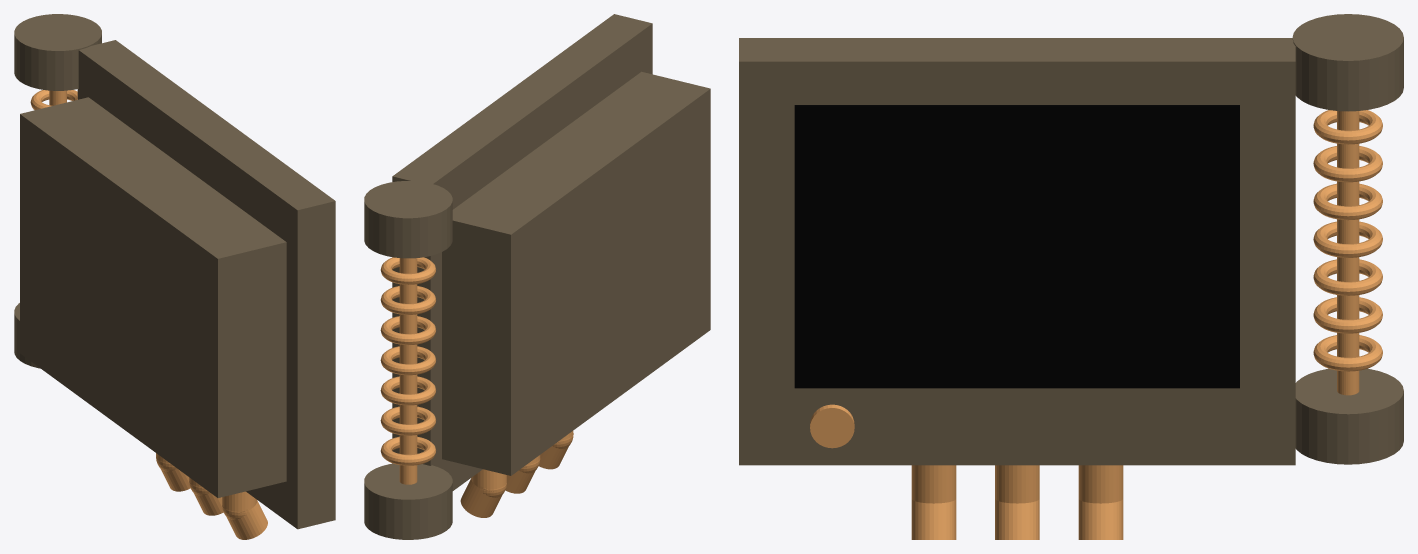
File: console(off).fbx
3 views of the same model, side by side, from view 1: azimuth 30°, elevation 25°; view 2: azimuth 150°, elevation 25°; view 3: azimuth 270°, elevation 25° (orthographic). The views are drawn at different scales.
Visible parts, largest first — view 1: screen; view 2: screen; view 3: screen.
Part boxes in pixels (x1,y1,x2,y2): screen: (14,14,335,539); screen: (364,14,710,539); screen: (739,14,1403,539).
Bounding box in the file's own units: 61.35 × 195 × 239.
